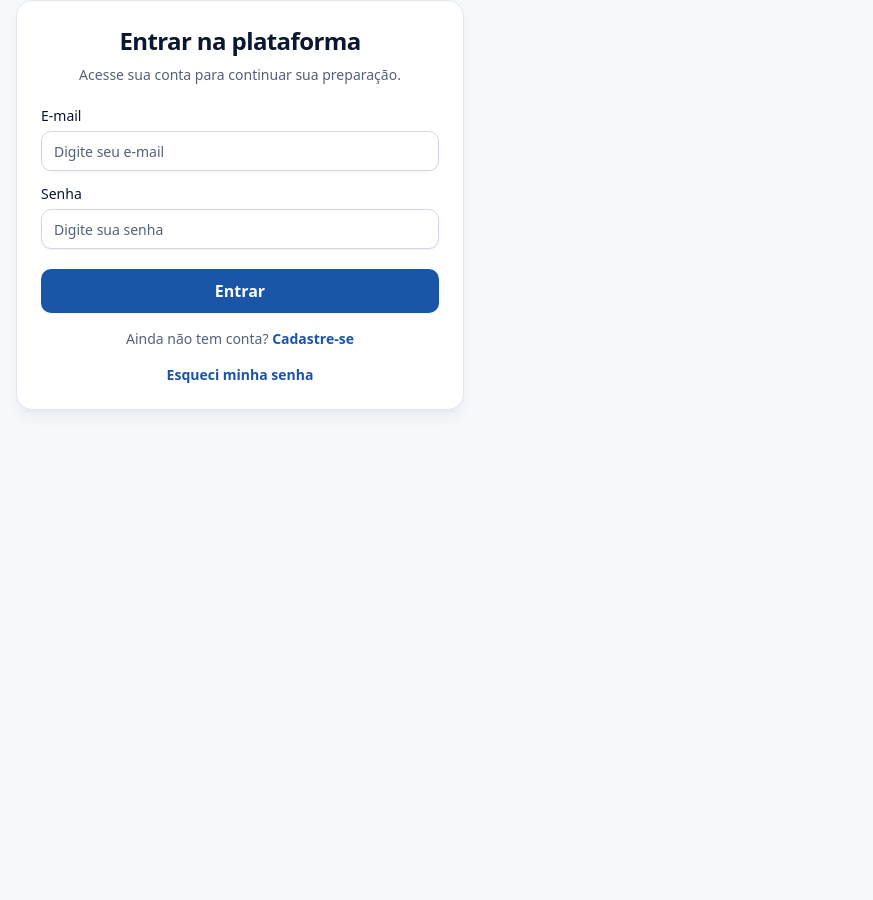
Test: TelaLogin › exibe erro para credenciais invalidas sem abrir a sessao
Type "ninguem@email.com" into the field labelled "E-mail" at (240, 151), box [41,131,439,171]
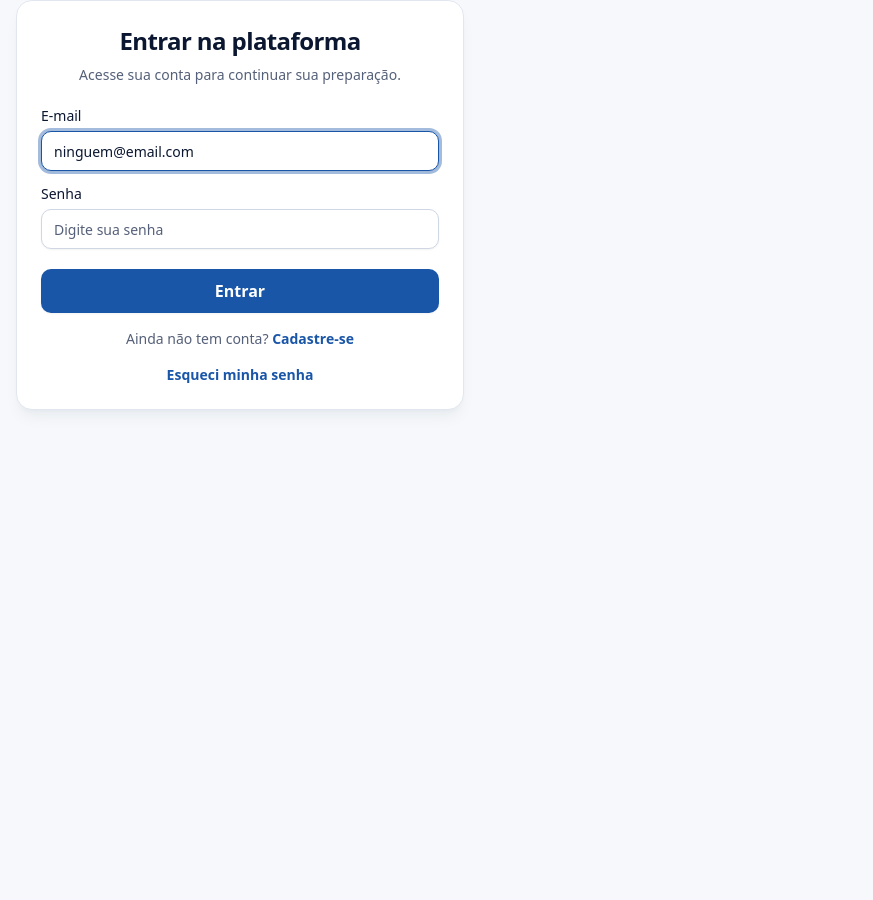
Type "senha1234" into the password field labelled "Senha" at (240, 229), box [41,209,439,249]
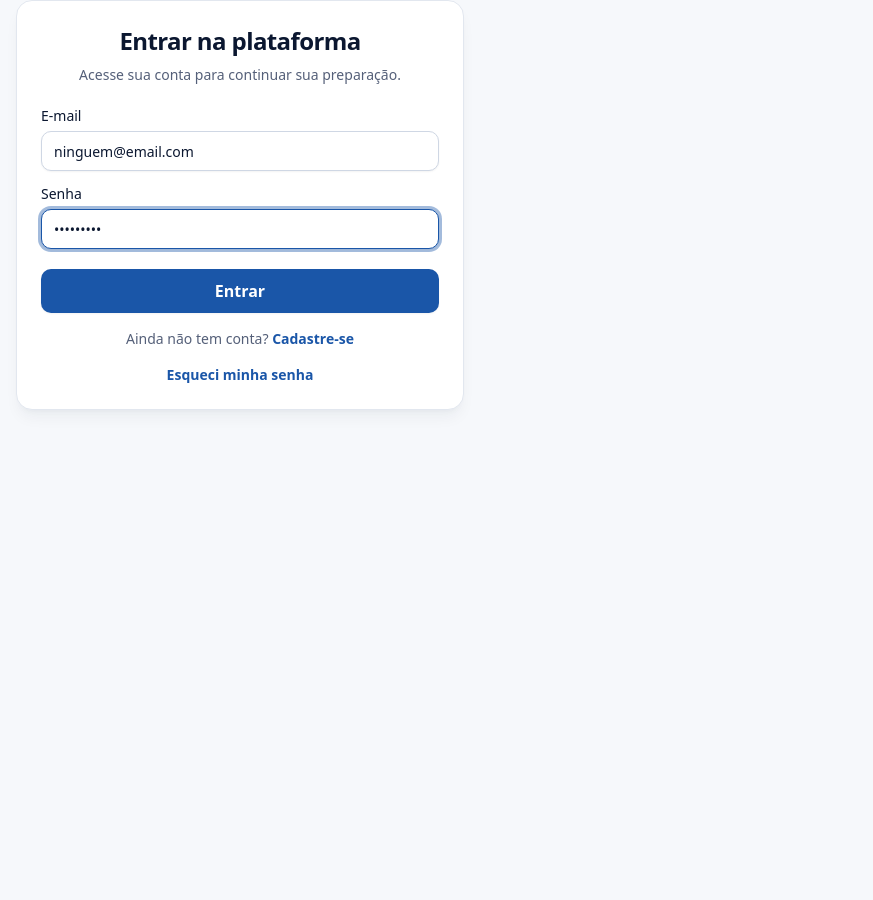
Click the button "Entrar" at (240, 291), box [41,269,439,313]
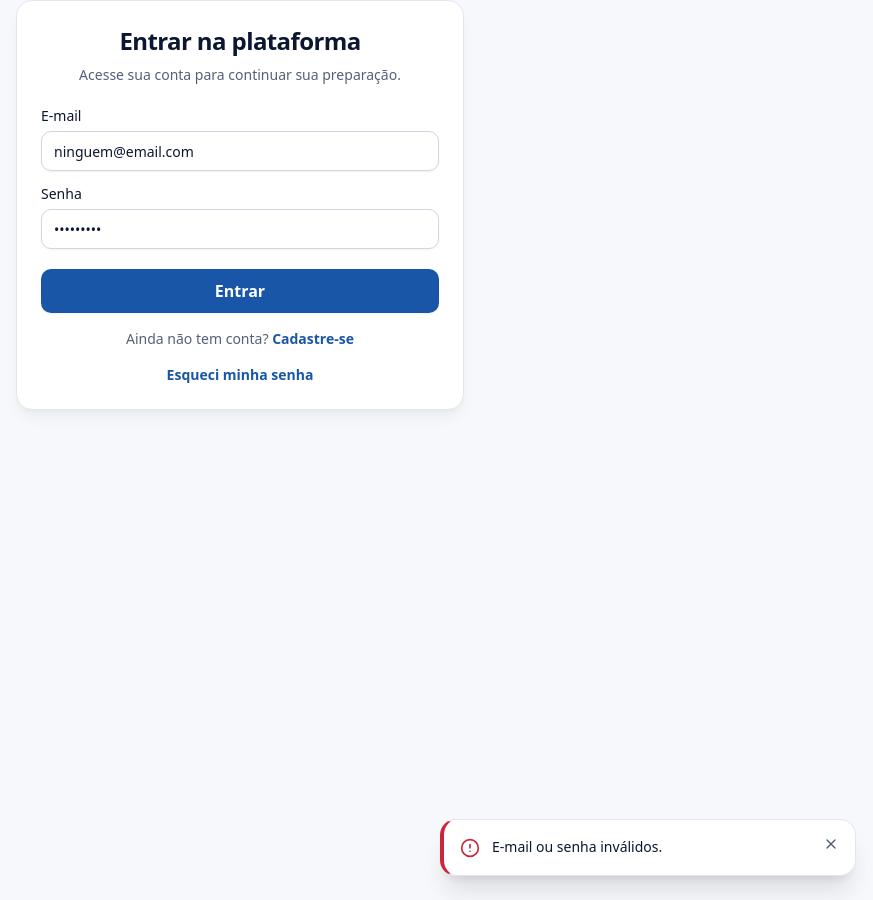
Expected: the text "E-mail ou senha inválidos." is shown, [492,837,662,856]
